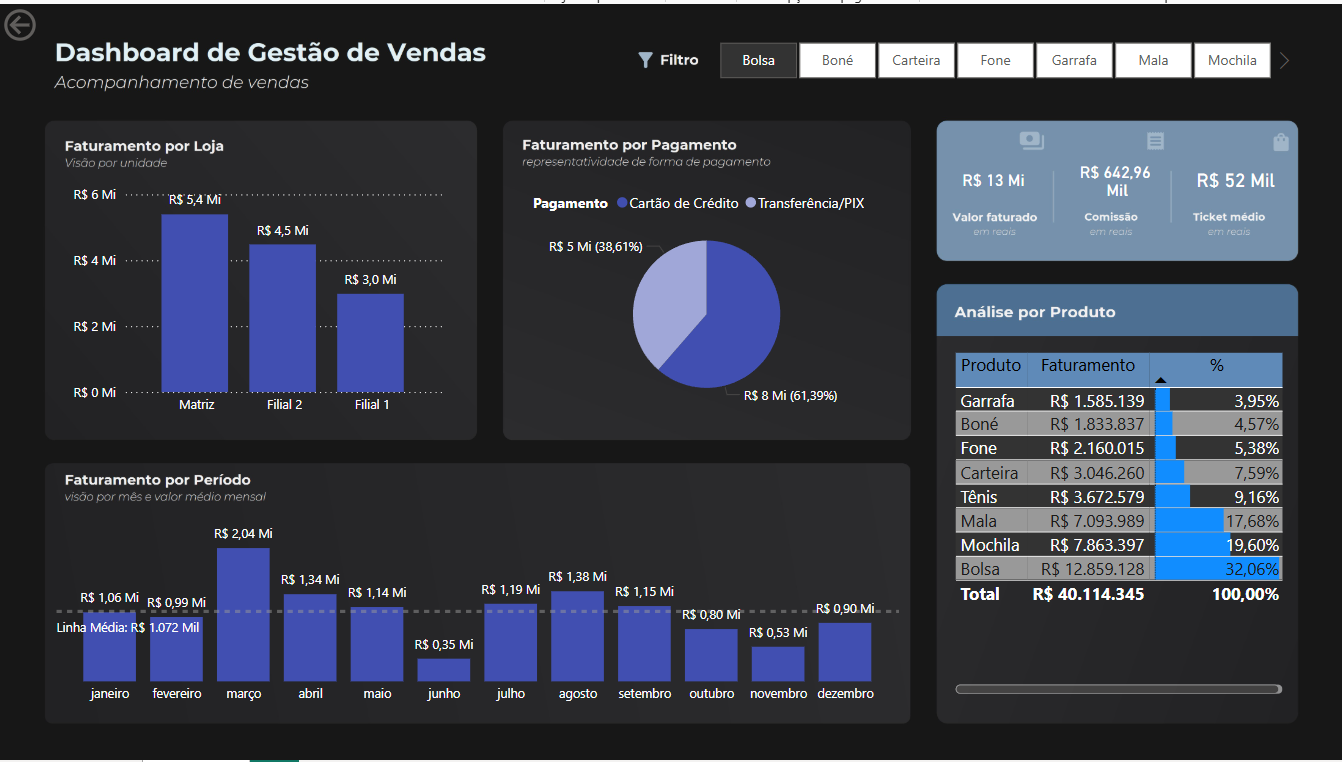

The page's visual inventory and layout, read from the dashboard file:
{"tool":"powerbi","page":{"name":"Página 1","canvas":[1280,720],"ordinal":0},"visuals":[{"type":"card","fields":{"Values":["Sum(registroVendas.Valor da Venda)"]},"box":[895.8,142.5,104.2,52.5],"z":0},{"type":"actionButton","box":[0,0,100,40],"z":1000},{"type":"card","fields":{"Values":["Avg(registroVendas.Valor da Venda)"]},"box":[1121.7,143.3,113.3,51.7],"z":2000},{"type":"clusteredColumnChart","title":"Faturamento por Periodo","fields":{"Category":["registroVendas.Data Pedido.Variation.Hierarquia de datas.Mês"],"Y":["Sum(registroVendas.Valor da Venda)"]},"box":[50,480,812.2,195.6],"z":3000},{"type":"pieChart","title":"Faturamento por pagamento","fields":{"Y":["Sum(registroVendas.Valor da Venda)"],"Category":["registroVendas.Pagamento"]},"box":[503.3,168.9,341.1,223.3],"z":4000},{"type":"clusteredColumnChart","title":"Faturamento por Loja","fields":{"Y":["Sum(registroVendas.Valor da Venda)"],"Category":["lojas.nome_loja"]},"box":[65.6,163.3,362.2,236.7],"z":5000},{"type":"tableEx","fields":{"Values":["registroVendas.Produto","Sum(registroVendas.Valor da Venda)","Divide(Sum(registroVendas.Valor da Venda), ScopedEval(Sum(registroVendas.Valor da Venda), []))"]},"box":[904.4,327.8,322.2,334.4],"z":6000},{"type":"slicer","fields":{"Values":["registroVendas.Produto"]},"box":[661.1,30,574.4,47.8],"z":7000},{"type":"card","fields":{"Values":["registroVendas.Comissão"]},"box":[1013.3,143.3,104.4,53.3],"z":8000}]}

Visuals, with their boxes on the page's 1280x720 design canvas (x1, y1, x2, y2). These are canvas units, not pixel positions in the 1342x762 screenshot, which may show the page scaled, cropped or inside an application window:
card - Sum(registroVendas.Valor da Venda): bbox(896, 142, 1000, 195)
actionButton: bbox(0, 0, 100, 40)
card - Avg(registroVendas.Valor da Venda): bbox(1122, 143, 1235, 195)
"Faturamento por Periodo" clusteredColumnChart: bbox(50, 480, 862, 676)
"Faturamento por pagamento" pieChart: bbox(503, 169, 844, 392)
"Faturamento por Loja" clusteredColumnChart: bbox(66, 163, 428, 400)
tableEx - registroVendas.Produto x Sum(registroVendas.Valor da Venda): bbox(904, 328, 1227, 662)
slicer - registroVendas.Produto: bbox(661, 30, 1236, 78)
card - registroVendas.Comissão: bbox(1013, 143, 1118, 197)
